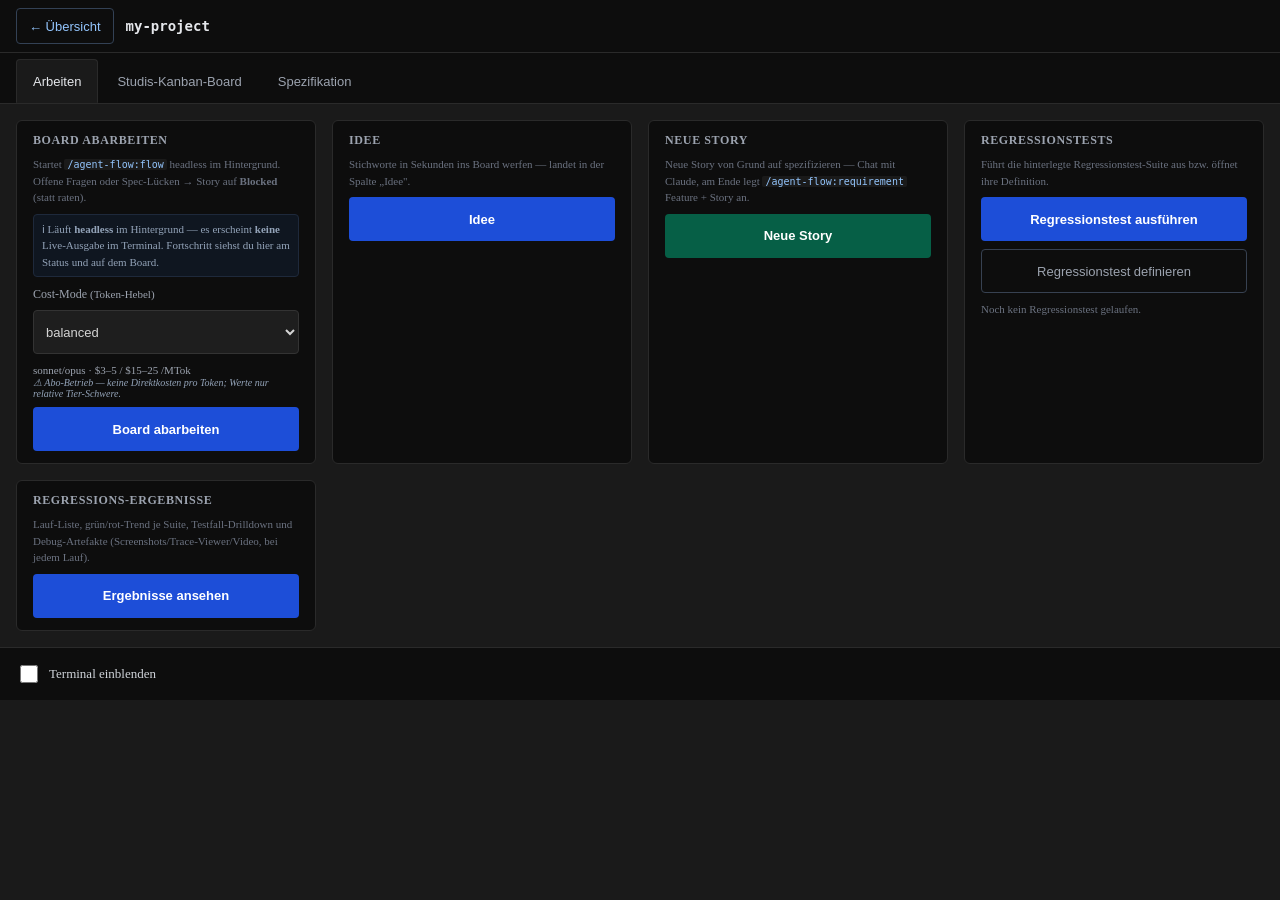
Test: headless-manual-drain AC6 — Status-Feedback + Kein-Live-Terminal-Hinweis › done poll → inline status shows „fertig" and stays on the Arbeiten tab
Click the button with test id "flow-board-btn": coordinates (166, 429) x1=33 y1=407 x2=299 y2=451
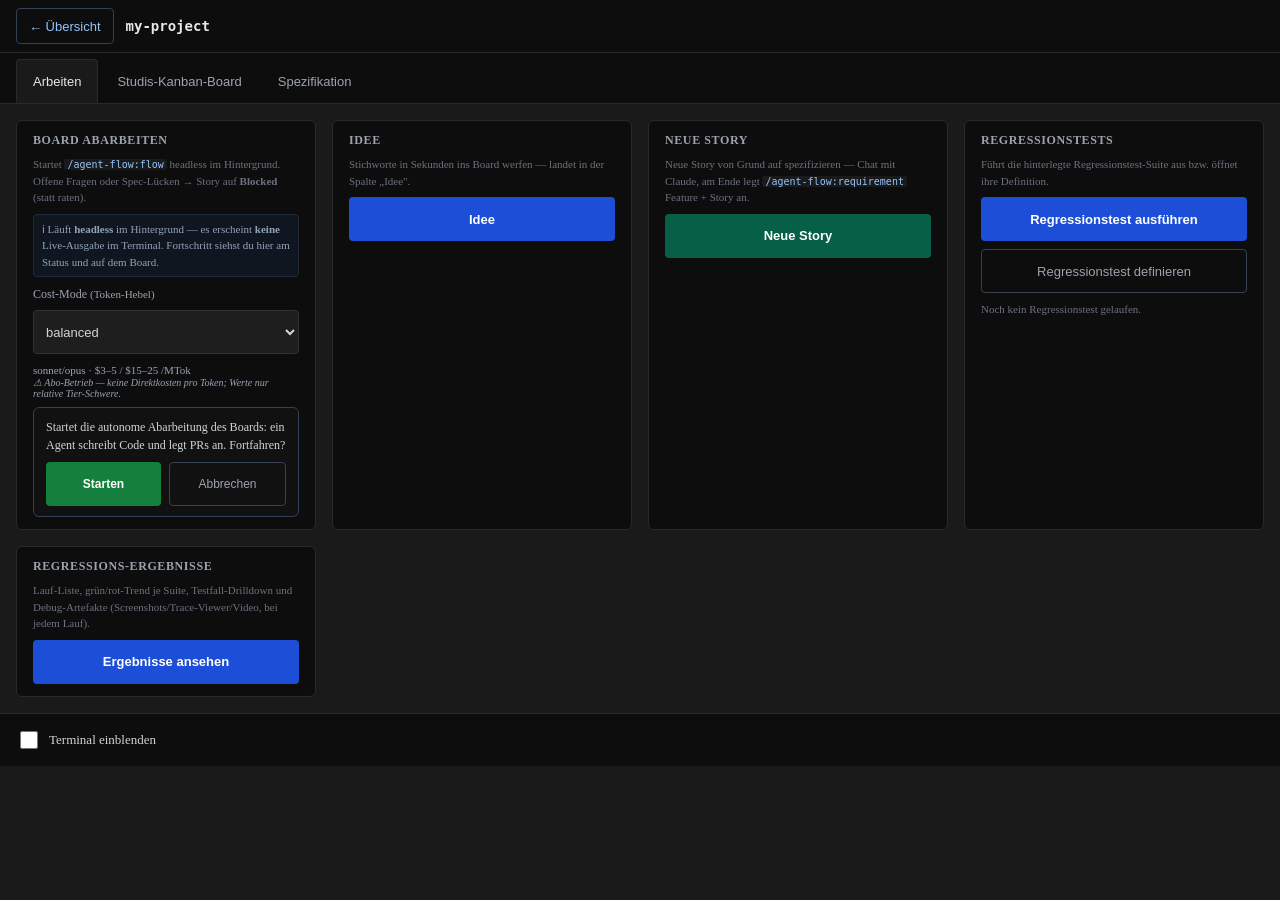
Click the button with test id "flow-confirm-yes": coordinates (104, 484) x1=46 y1=462 x2=161 y2=506
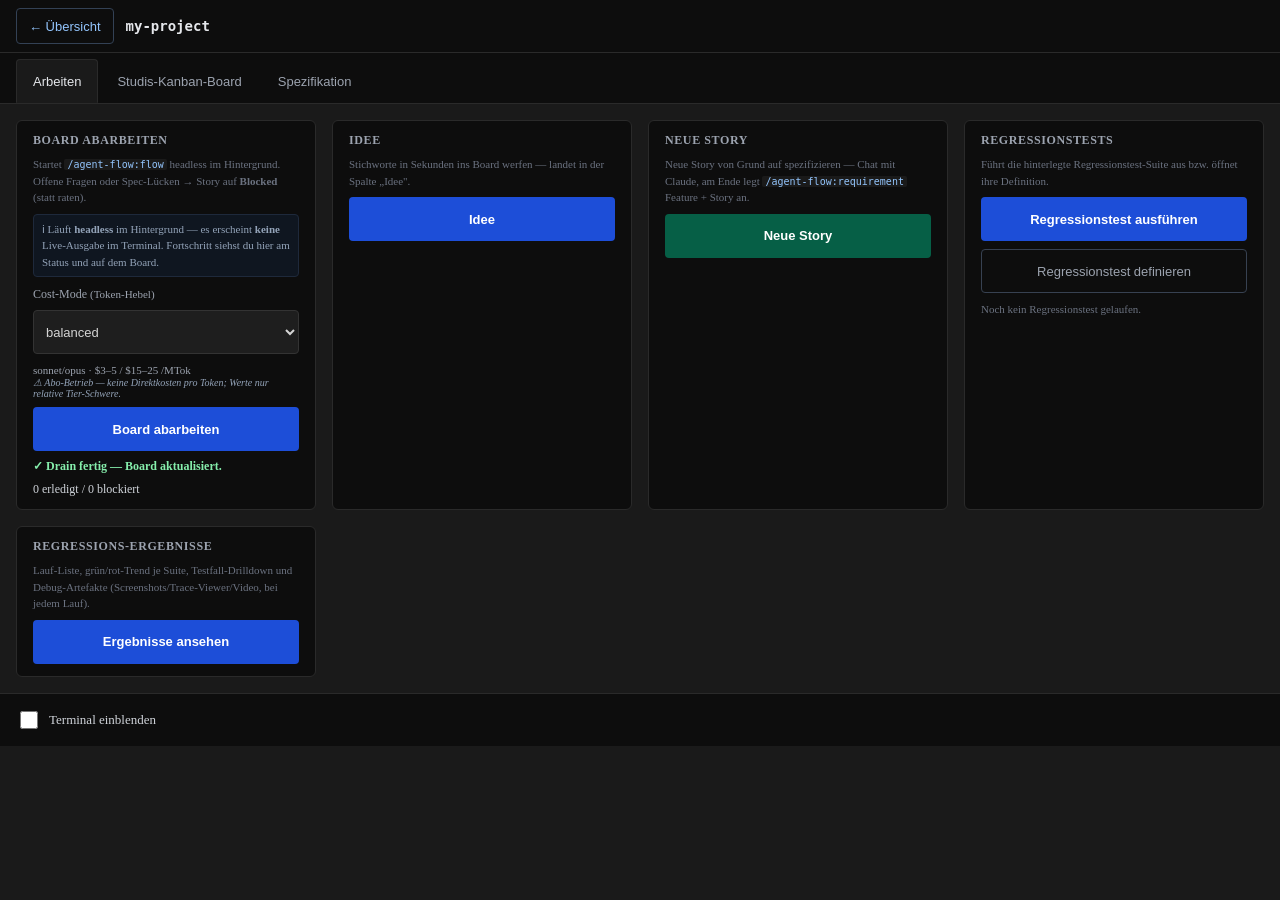
Result: the message with test id "drain-job-status" shows "fertig" at x1=33 y1=459 x2=222 y2=473
Result: the button with test id "flow-board-btn" is shown at x1=33 y1=407 x2=299 y2=451
